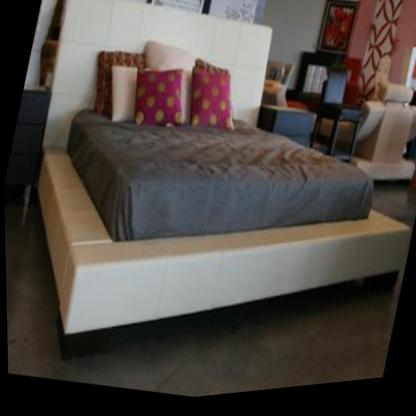Bed: (0, 0, 416, 416)
Chair: (307, 68, 373, 169)
